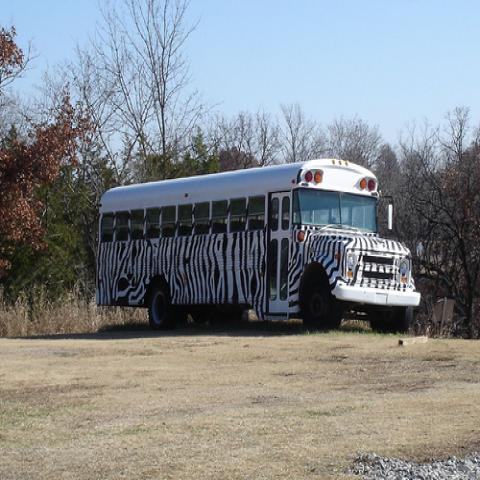bus: (96, 155, 422, 332)
